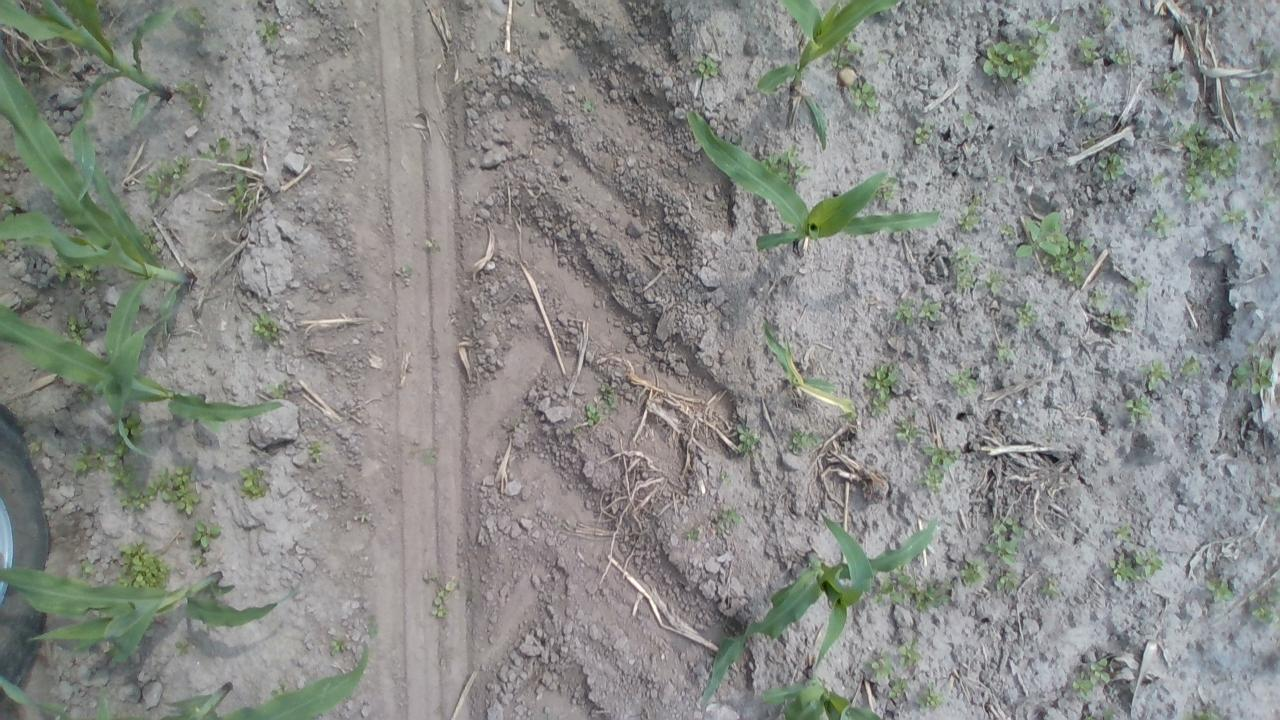Maize: (0, 54, 194, 434), (702, 509, 938, 709), (0, 304, 286, 461), (686, 104, 940, 252), (0, 0, 180, 200), (0, 639, 370, 720), (0, 564, 302, 662), (756, 0, 900, 150), (761, 316, 854, 411), (760, 667, 887, 720)
Weeds: (1013, 211, 1092, 286), (981, 18, 1059, 85), (1176, 122, 1241, 200), (99, 443, 148, 512), (113, 538, 171, 591), (876, 572, 950, 612), (150, 464, 201, 516), (143, 155, 189, 206), (861, 360, 902, 414), (758, 146, 812, 186), (984, 516, 1024, 568), (919, 442, 960, 490), (1232, 352, 1276, 396), (1108, 548, 1164, 580), (1242, 79, 1280, 121), (1072, 656, 1110, 698), (950, 244, 980, 292), (892, 298, 944, 324), (428, 570, 456, 618), (1249, 582, 1280, 624), (112, 410, 142, 452), (188, 522, 222, 558), (250, 310, 285, 344), (239, 466, 269, 503), (179, 80, 209, 117), (228, 173, 256, 212), (54, 264, 96, 290), (832, 38, 864, 70), (256, 16, 288, 47), (732, 424, 762, 457), (960, 553, 989, 587), (892, 416, 924, 446), (1142, 358, 1170, 392), (1099, 308, 1134, 334), (1145, 210, 1175, 240), (62, 314, 90, 346), (1253, 40, 1280, 73), (1152, 68, 1186, 94), (956, 199, 983, 231), (1098, 149, 1124, 182), (948, 367, 976, 396), (1124, 394, 1152, 423), (788, 427, 818, 454), (847, 81, 877, 108), (1204, 576, 1234, 603), (1074, 36, 1100, 66), (876, 174, 904, 201), (71, 444, 96, 474), (1263, 128, 1280, 172), (714, 507, 740, 535), (690, 55, 719, 80), (1184, 703, 1226, 720), (896, 640, 922, 666), (1014, 300, 1039, 327), (201, 138, 234, 158), (867, 654, 892, 680), (142, 226, 166, 253), (599, 381, 620, 411), (580, 402, 604, 427), (1092, 4, 1119, 26), (1086, 284, 1110, 308), (912, 122, 934, 148), (1108, 46, 1134, 68), (1128, 273, 1152, 296), (921, 686, 946, 708), (1220, 208, 1248, 227), (1178, 353, 1200, 377), (984, 268, 1004, 294), (304, 438, 324, 463), (362, 613, 381, 639), (1072, 95, 1093, 117), (994, 343, 1016, 364), (235, 145, 258, 165), (996, 572, 1019, 592), (886, 677, 906, 700), (172, 636, 190, 660), (270, 680, 294, 698), (77, 557, 97, 578), (328, 634, 350, 653), (1040, 577, 1059, 597), (1113, 526, 1134, 544), (996, 219, 1014, 240), (1149, 168, 1166, 190), (1084, 708, 1112, 720), (1261, 188, 1276, 210), (422, 235, 440, 253), (717, 466, 733, 485), (395, 265, 412, 282), (268, 382, 286, 398), (423, 448, 438, 466), (78, 389, 100, 401), (959, 112, 976, 127), (580, 98, 594, 114), (682, 528, 698, 541), (992, 172, 1008, 185), (16, 56, 31, 66), (1084, 138, 1096, 149), (571, 428, 583, 436)
